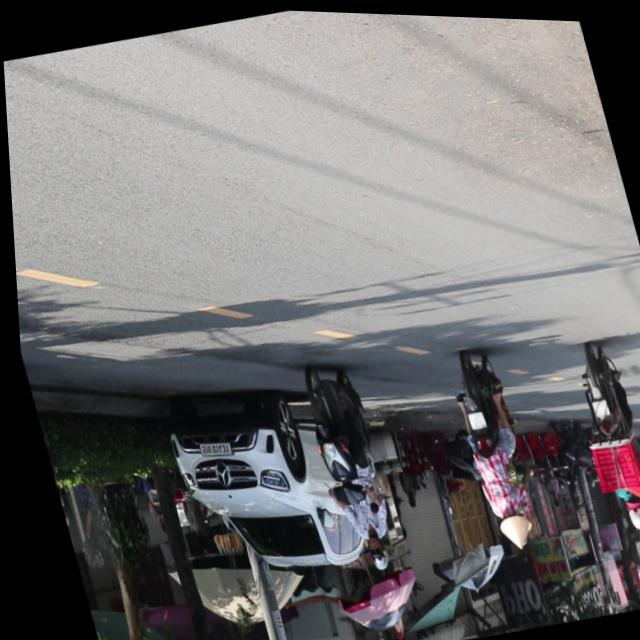helmet: (357, 529, 385, 571), (617, 492, 640, 527)
licenseplate: (436, 342, 541, 554), (557, 335, 640, 533)
motorcyclist: (490, 503, 532, 550)
nohelmet: (462, 407, 482, 427), (587, 394, 605, 415)
